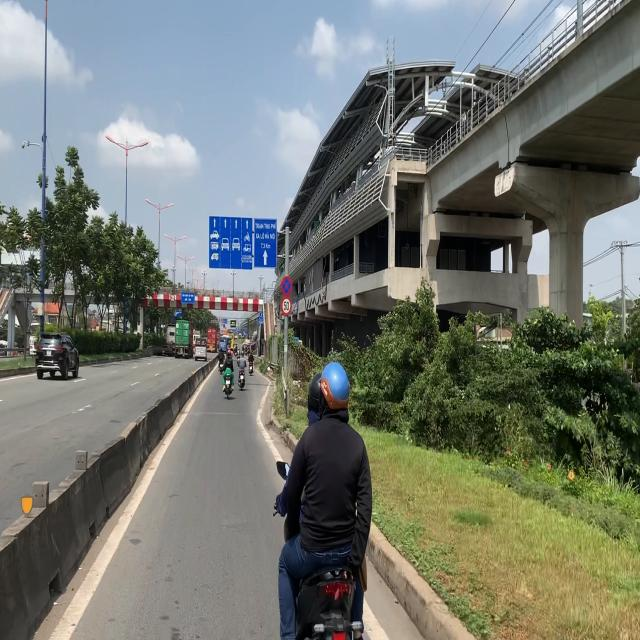Cam dung va do: (281, 276, 292, 296)
Toc do toi da: (280, 296, 292, 316)
